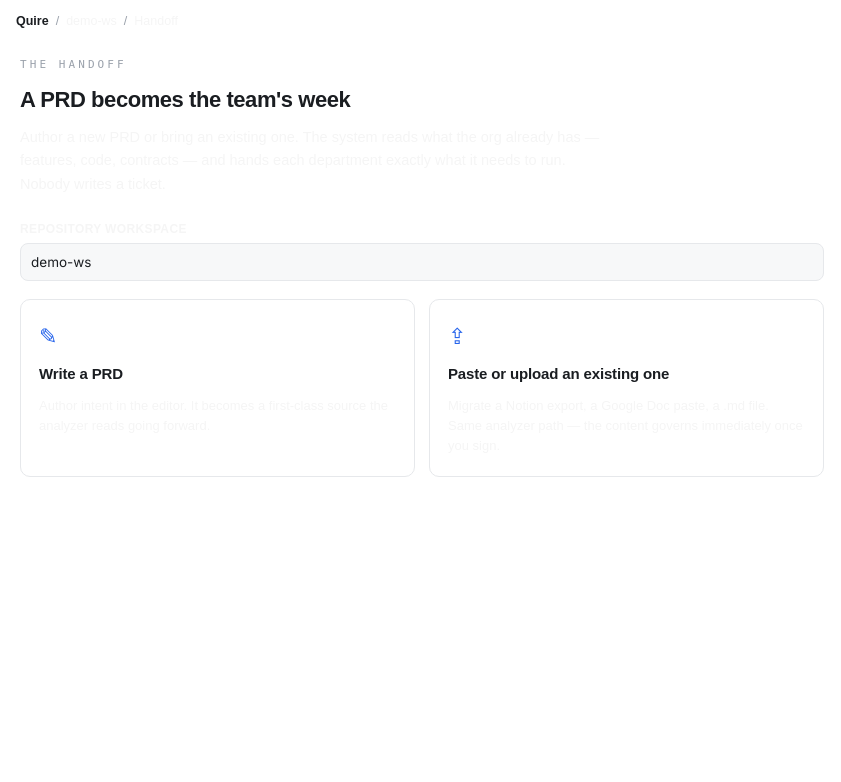
Test case: Handoff surface — upload door › opens the paste view when Paste or upload is clicked
Click the text "Paste or upload an existing one".
click(559, 374)  # box [448,363,669,386]
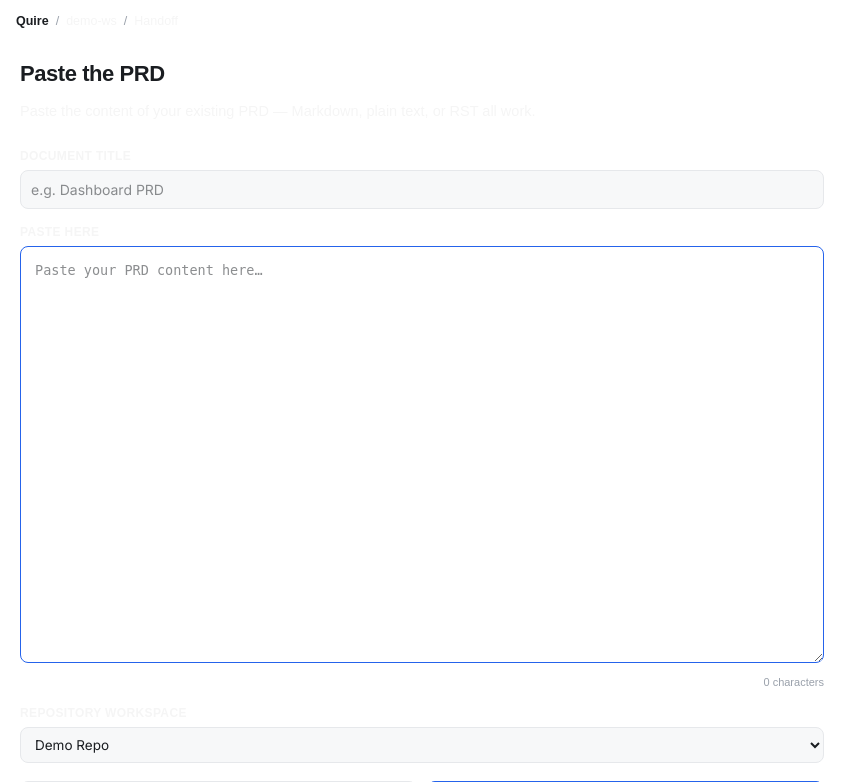
Check: the heading "Paste the PRD" is shown, box [20,61,165,86]
Check: the text box with placeholder "Paste your PRD content here…" is shown, box [20,246,824,663]
